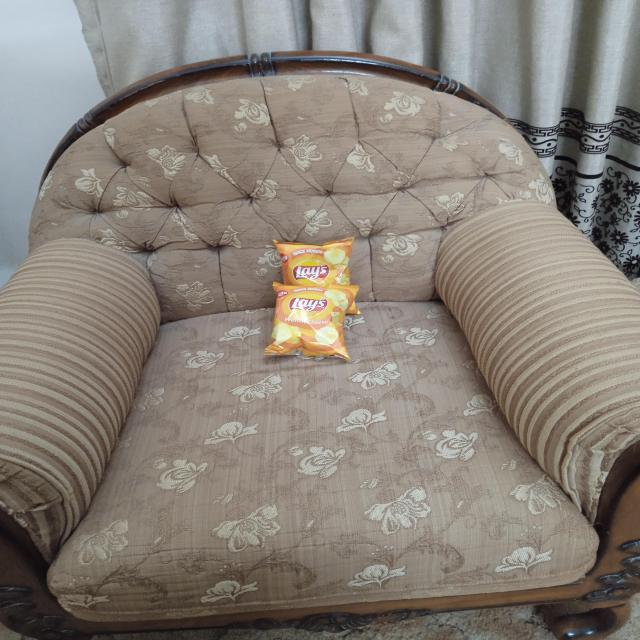Plastic: (270, 283, 348, 357), (281, 243, 349, 286)
